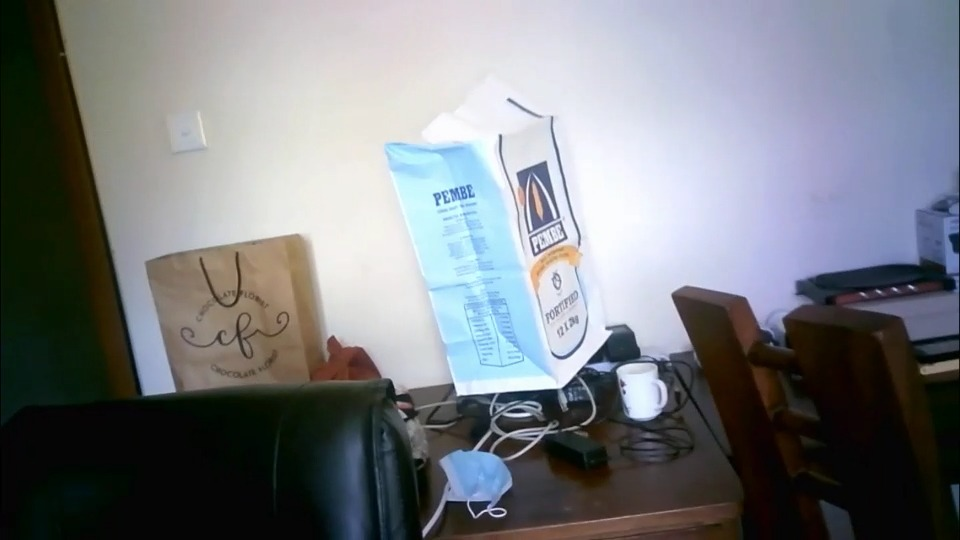wheat_flour_blue_label: (384, 75, 609, 394)
